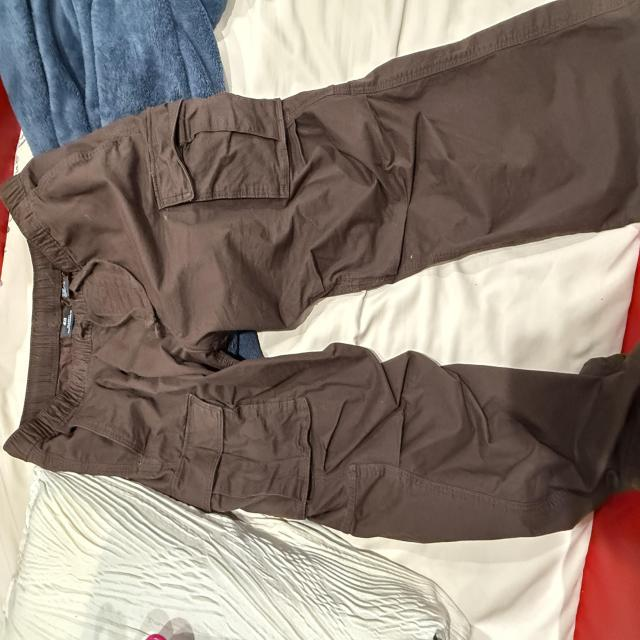back_tag: (61, 308, 74, 339)
